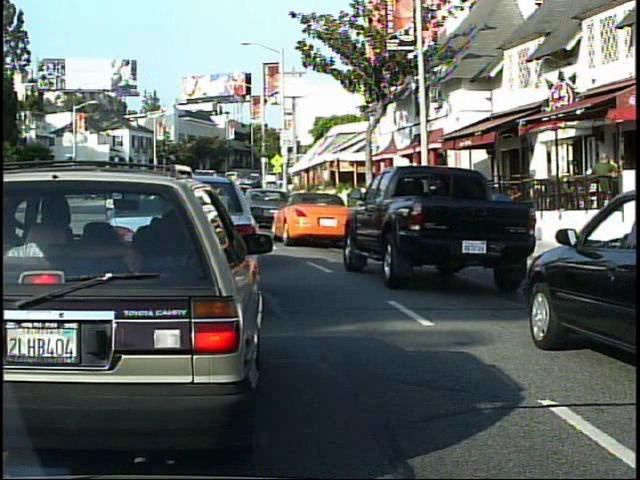person: (588, 146, 622, 227)
